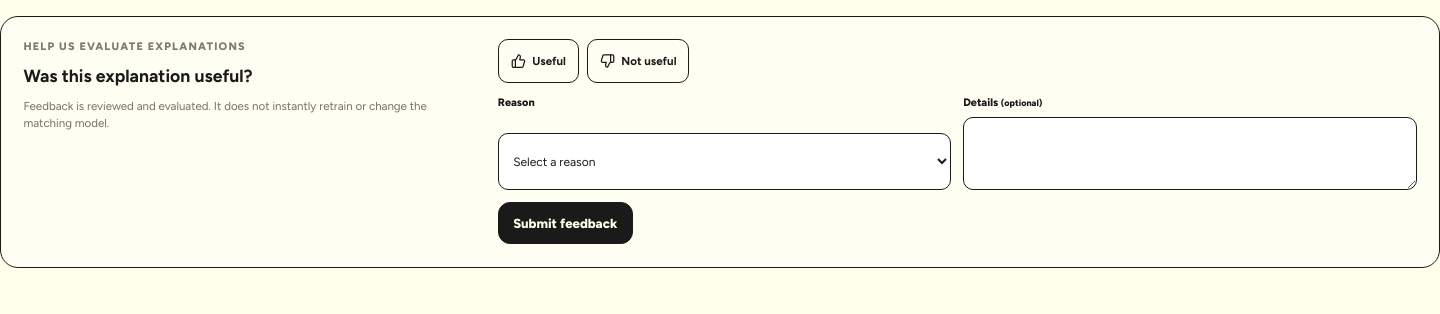
Test: match detail components › reports submission errors without discarding the form
The width and height of the screenshot is (1440, 314).
Click the button "Not useful": (638, 61) left=587, top=39, right=689, bottom=83
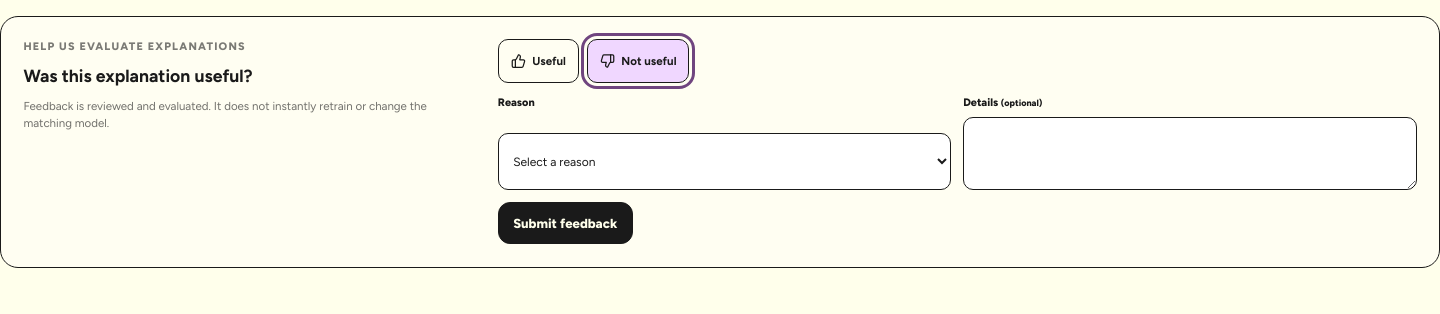
Select "Unclear explanation" in the dropdown labelled "Reason": (724, 162) left=498, top=133, right=951, bottom=190
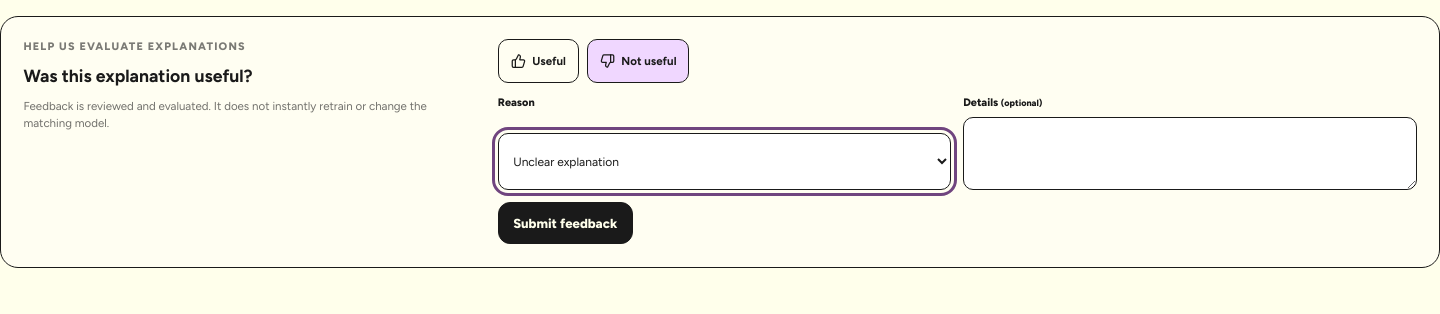
Click the button "Submit feedback": (565, 224) left=498, top=202, right=633, bottom=244
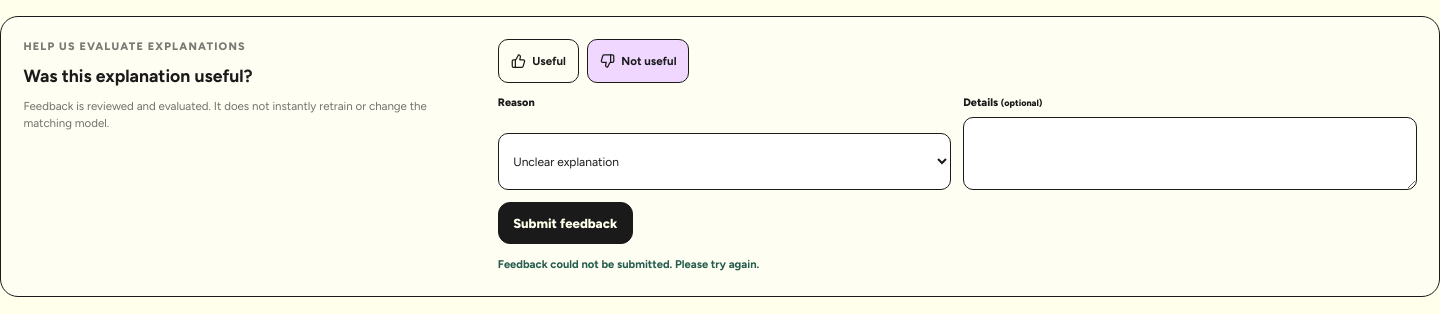
Expected: the text "Feedback could not be submitted. Please try again." is shown, left=498, top=256, right=759, bottom=273
